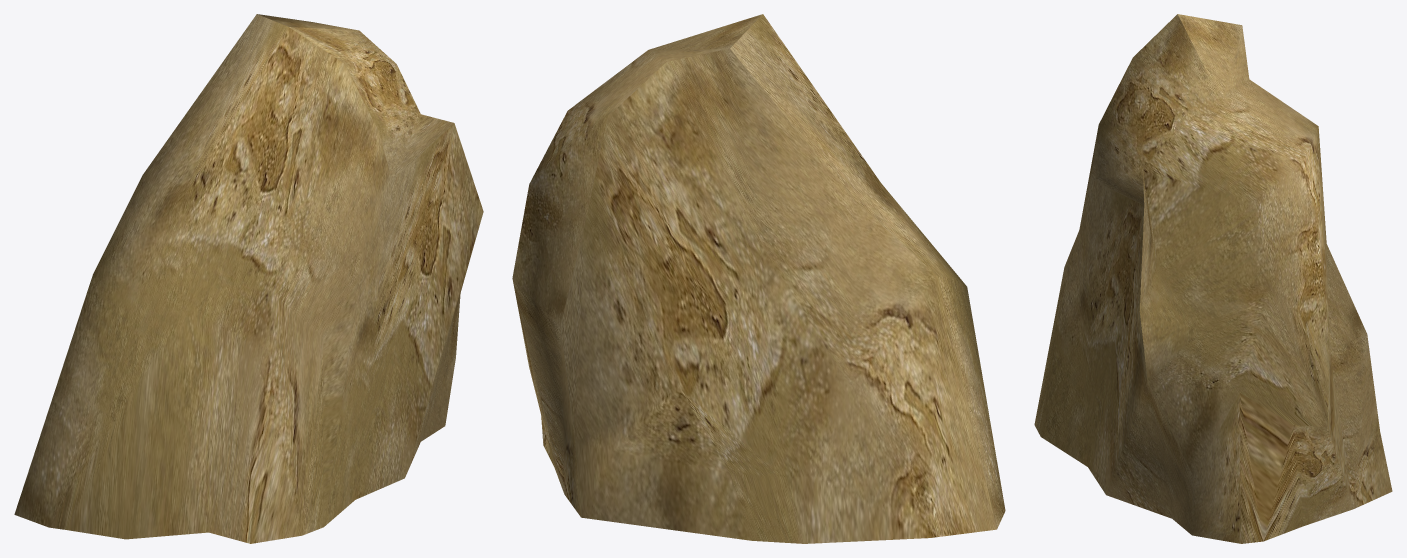
The model's file is tunnel_block_cave_small.fbx.
The picture shows the model from 3 angles, left to right: view 1: azimuth 30°, elevation 25°; view 2: azimuth 150°, elevation 25°; view 3: azimuth 270°, elevation 25°; orthographic projection.
Parts seen in each view (by area): view 1: Rocks_158; view 2: Rocks_158; view 3: Rocks_158.
Boxes of the visible parts, x1,y1,x2,y2 form: Rocks_158: (14, 14, 483, 543); Rocks_158: (512, 14, 1005, 543); Rocks_158: (1034, 14, 1392, 543).
Size of the model in its own units: 8039 by 7502 by 5500.
Materials: 1 (1 with a texture image).
